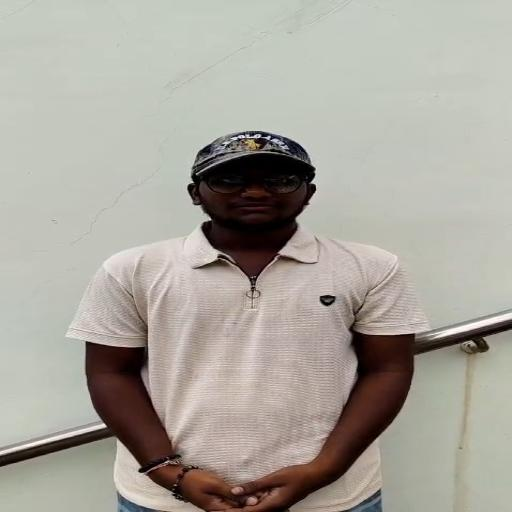employee-detectio-system: (63, 120, 430, 420)
